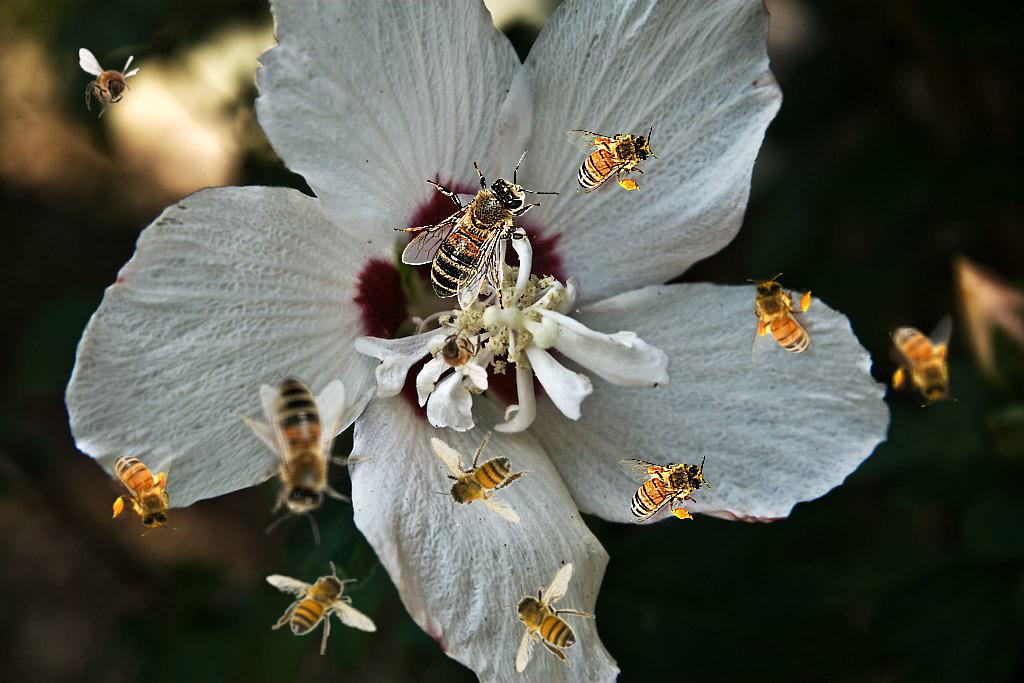Bee: (188, 336, 421, 568), (393, 148, 560, 310), (409, 414, 544, 538), (266, 561, 377, 655), (502, 562, 596, 673), (747, 273, 815, 366), (618, 455, 711, 523), (565, 126, 658, 194), (109, 443, 177, 536), (889, 314, 957, 407), (427, 320, 488, 390), (79, 48, 140, 118)
